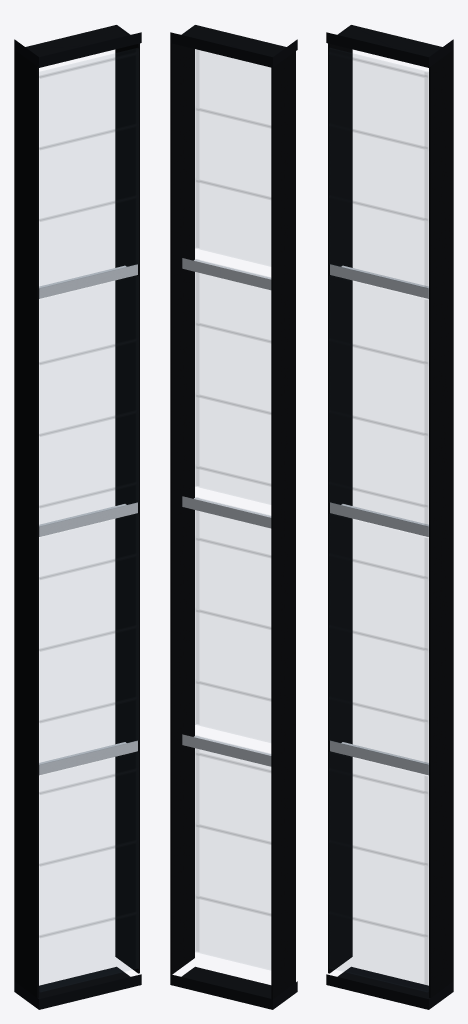
The model's file is tt_struct_f3_corner_closure.glb.
3 renders of one model, left to right at view 1: azimuth 30°, elevation 25°; view 2: azimuth 150°, elevation 25°; view 3: azimuth 330°, elevation 25°, orthographic.
Visible parts, largest first — view 1: Closure_Fins, Glass_Closure_Pane, Closure_Sill_Head, Closure_Transoms; view 2: Closure_Fins, Glass_Closure_Pane, Closure_Sill_Head, Closure_Transoms; view 3: Closure_Fins, Glass_Closure_Pane, Closure_Sill_Head, Closure_Transoms.
Part boxes in pixels (x1,y1,x2,y2): Closure_Fins: [14, 25, 139, 997]; Glass_Closure_Pane: [39, 48, 138, 968]; Closure_Sill_Head: [14, 25, 141, 1009]; Closure_Transoms: [39, 264, 137, 775]; Closure_Fins: [170, 26, 295, 999]; Glass_Closure_Pane: [195, 49, 270, 951]; Closure_Sill_Head: [170, 25, 297, 1009]; Closure_Transoms: [182, 258, 271, 766]; Closure_Fins: [328, 25, 453, 997]; Glass_Closure_Pane: [329, 51, 428, 991]; Closure_Sill_Head: [326, 25, 453, 1009]; Closure_Transoms: [330, 264, 428, 775].
Bounding box in the file's own units: 1.5 × 13.3 × 0.63.
Materials: 4 (4 with a texture image).
